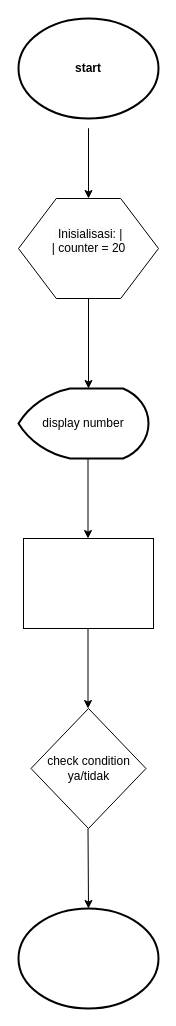
This 176x1026 diagram has some shape labels left out. The centre of each missing label's shape, as x and y in pixels:
decrement: point 88,583
end: point 88,958
